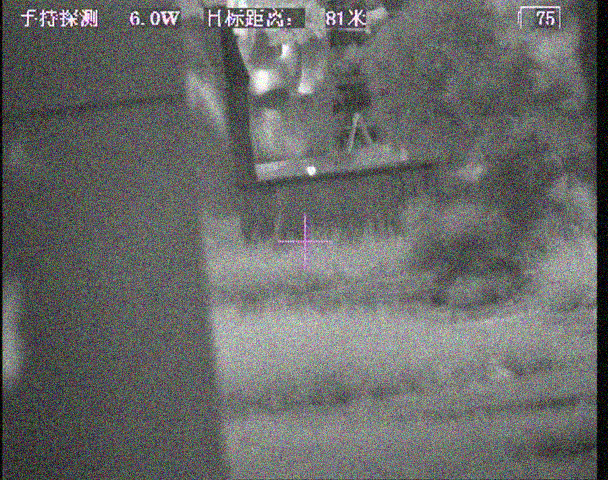my: (306, 165, 317, 175)
